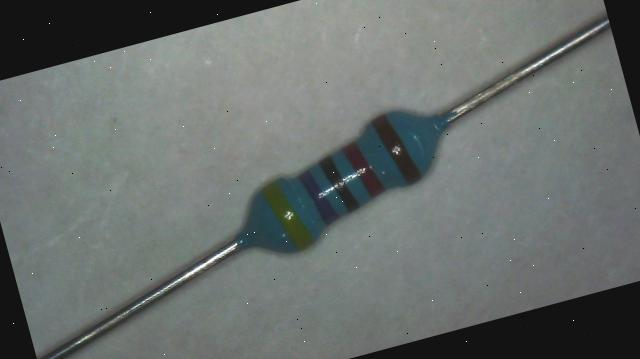black: (318, 152, 360, 216)
brown: (371, 109, 422, 189)
red: (341, 136, 385, 200)
resistor: (214, 68, 489, 288)
violet: (298, 165, 340, 228)
yellow: (260, 174, 314, 255)
